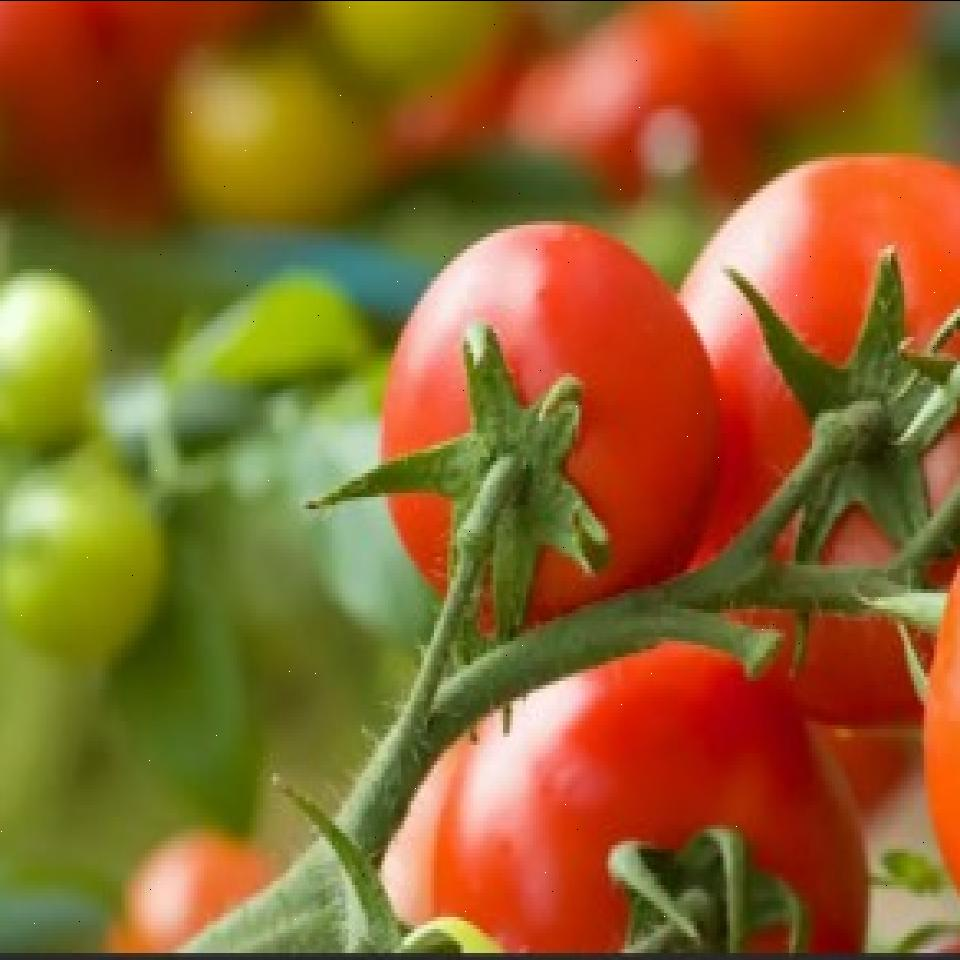Healthy: (661, 140, 960, 704), (424, 644, 838, 960), (391, 235, 665, 630)
